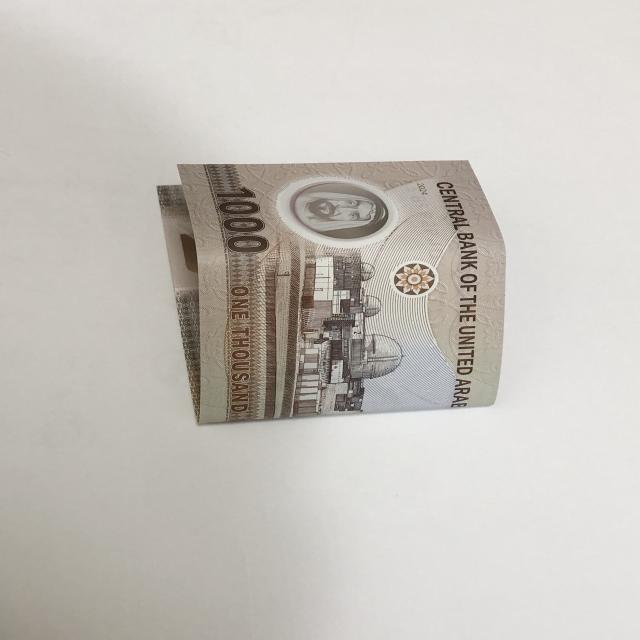1000_AED: (154, 153, 517, 429)
